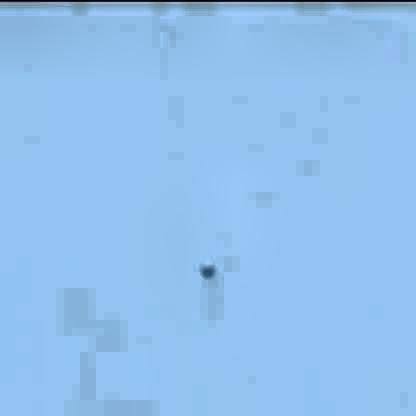golfball: (198, 258, 216, 277)
